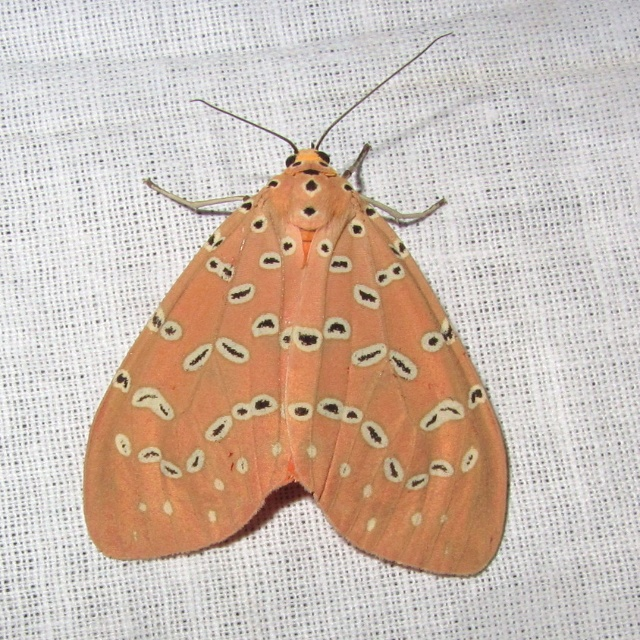Butterfly: (48, 28, 525, 575)
